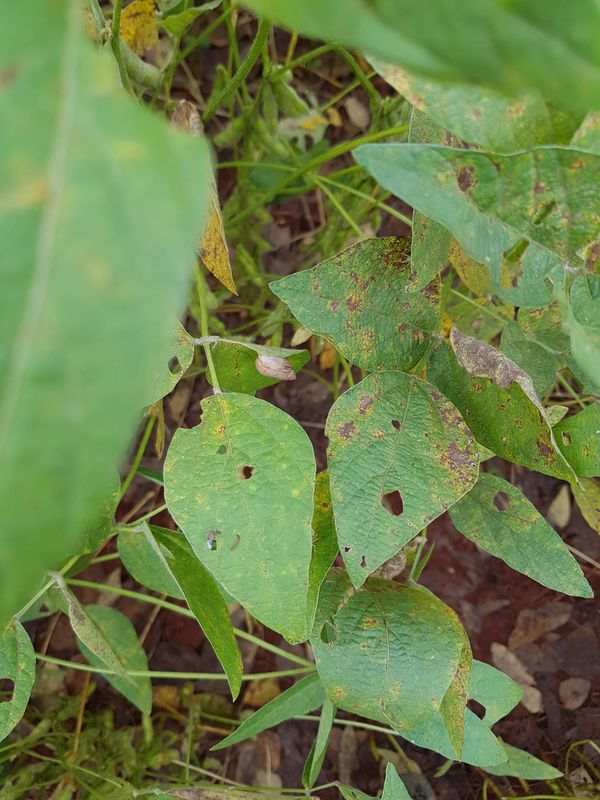Gastropoda: (248, 345, 307, 392)
